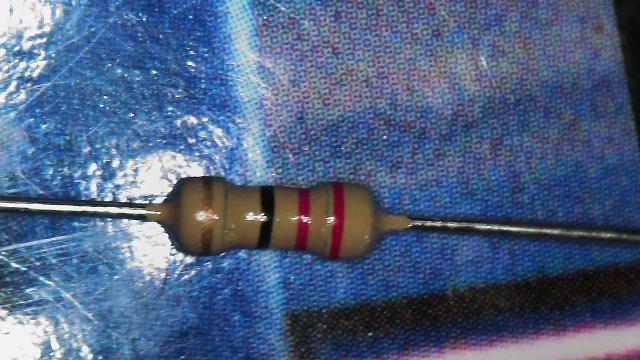black: (262, 184, 274, 249)
gold: (202, 176, 214, 249)
orange: (298, 186, 310, 248)
red: (330, 178, 343, 258)
resistor: (151, 150, 408, 276)
